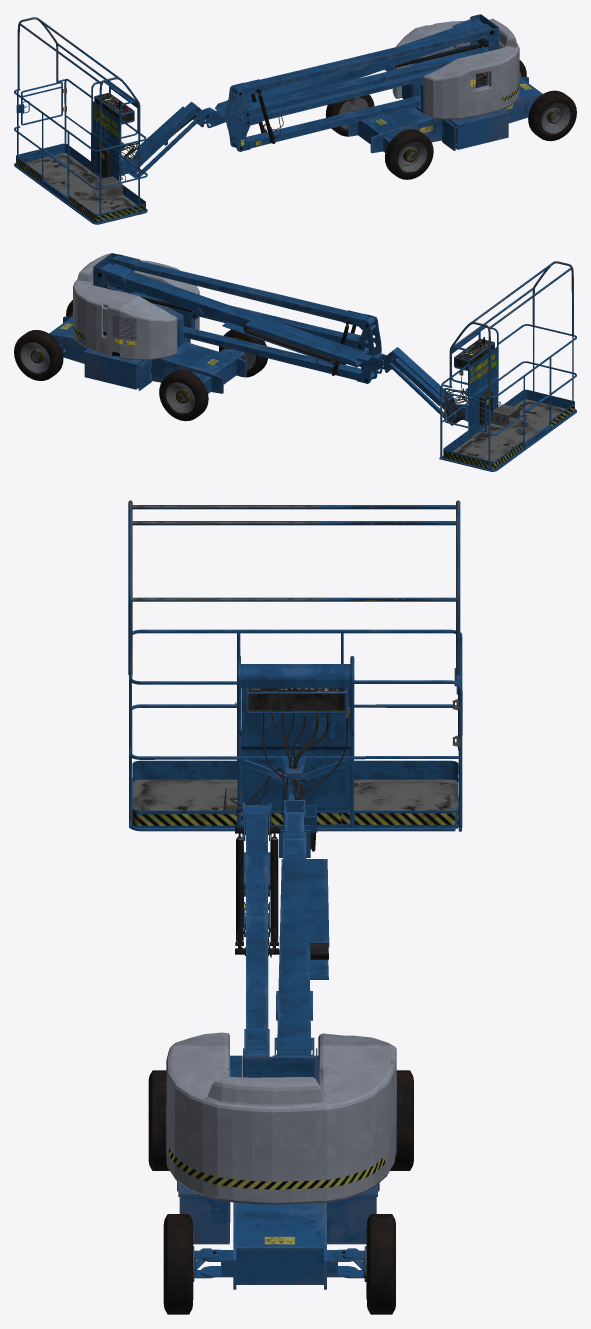
File: Boom lift.fbx
3 renders of one model, top to bottom at view 1: azimuth 30°, elevation 25°; view 2: azimuth 150°, elevation 25°; view 3: azimuth 270°, elevation 25°, orthographic. The views are drawn at different scales.
Visible parts, largest first — view 1: mesh185.dat, mesh0.dat.006, mesh42.dat, mesh3.dat.001, mesh4.dat.001, mesh9.dat, mesh6.dat, mesh1.dat.001, mesh7.dat.001, mesh208.dat, mesh5.dat, mesh83.dat (+27 smaller); view 2: mesh2.dat.001, mesh185.dat, mesh42.dat, mesh9.dat, mesh3.dat.001, mesh6.dat, mesh1.dat.001, mesh21.dat, mesh208.dat, mesh76.dat, mesh78.dat, mesh10.dat.001 (+24 smaller); view 3: mesh1.dat.001, mesh185.dat, mesh208.dat, mesh42.dat, mesh9.dat, mesh3.dat.001, mesh80.dat, mesh78.dat, mesh2.dat.001, mesh200.dat, mesh211.dat, mesh0.dat.006 (+15 smaller).
Boxes of the visible parts, x1,y1,x2,y2 form: mesh185.dat: [16, 143, 145, 222]; mesh0.dat.006: [423, 53, 499, 119]; mesh42.dat: [348, 77, 543, 153]; mesh3.dat.001: [234, 26, 487, 93]; mesh4.dat.001: [249, 48, 488, 110]; mesh9.dat: [223, 20, 479, 115]; mesh6.dat: [245, 95, 420, 148]; mesh1.dat.001: [439, 18, 519, 110]; mesh7.dat.001: [447, 108, 509, 149]; mesh208.dat: [91, 101, 119, 180]; mesh5.dat: [258, 69, 437, 121]; mesh83.dat: [385, 129, 433, 179]; mesh2.dat.001: [97, 290, 177, 360]; mesh185.dat: [443, 389, 574, 469]; mesh42.dat: [49, 316, 246, 393]; mesh9.dat: [105, 264, 365, 367]; mesh3.dat.001: [116, 256, 373, 325]; mesh6.dat: [183, 326, 361, 379]; mesh1.dat.001: [73, 253, 149, 351]; mesh21.dat: [83, 348, 144, 389]; mesh208.dat: [470, 347, 498, 438]; mesh76.dat: [159, 370, 208, 421]; mesh78.dat: [14, 330, 63, 380]; mesh10.dat.001: [246, 321, 362, 365]; mesh1.dat.001: [167, 1068, 394, 1204]; mesh185.dat: [132, 760, 458, 829]; mesh208.dat: [241, 688, 350, 810]; mesh42.dat: [233, 1202, 326, 1289]; mesh9.dat: [277, 859, 311, 1054]; mesh3.dat.001: [246, 813, 267, 1049]; mesh80.dat: [163, 1214, 192, 1314]; mesh78.dat: [367, 1214, 395, 1314]; mesh2.dat.001: [318, 1033, 396, 1162]; mesh200.dat: [241, 664, 350, 688]; mesh211.dat: [245, 688, 347, 711]; mesh0.dat.006: [166, 1032, 229, 1165].
Size of the model in its own units: 1075 by 375 by 316.
208 materials, 208 textured.
